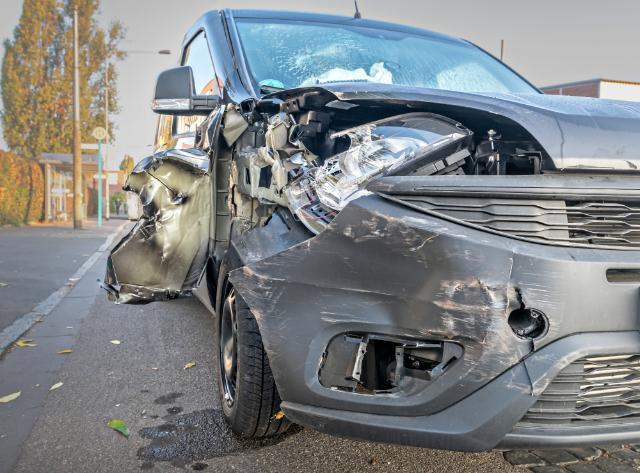dent: (249, 210, 437, 326), (118, 151, 210, 295)
glass shatter: (235, 18, 541, 98)
lamp broken: (313, 111, 481, 210)
no part: (216, 88, 556, 265), (318, 334, 464, 399)
scratch: (432, 276, 530, 392), (522, 265, 563, 343)
